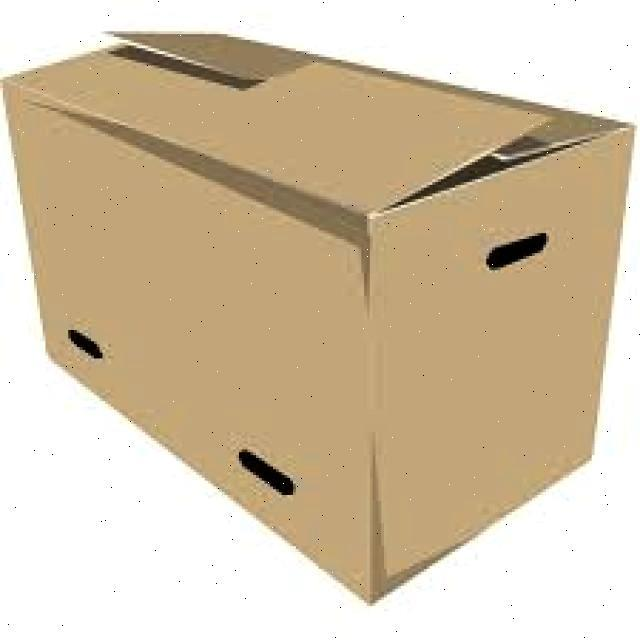box: (1, 29, 637, 606)
normal_hole: (237, 448, 297, 497), (485, 233, 549, 272), (66, 327, 104, 361)
opened: (1, 30, 637, 220)
